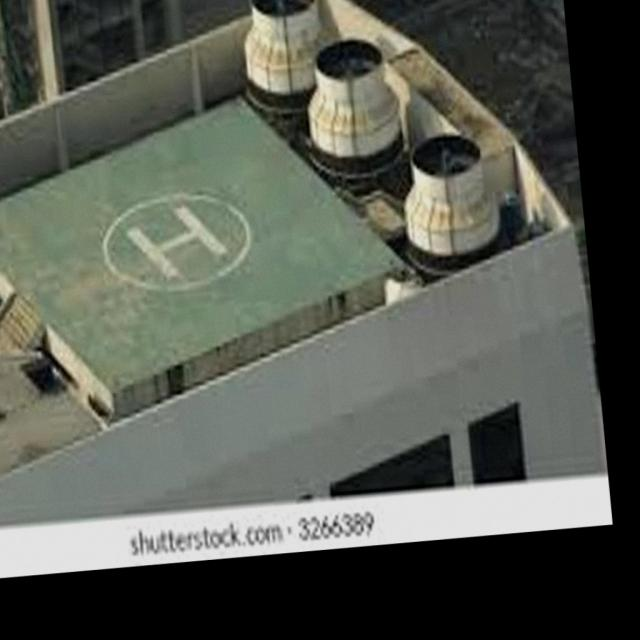helipad: (99, 191, 253, 296)
